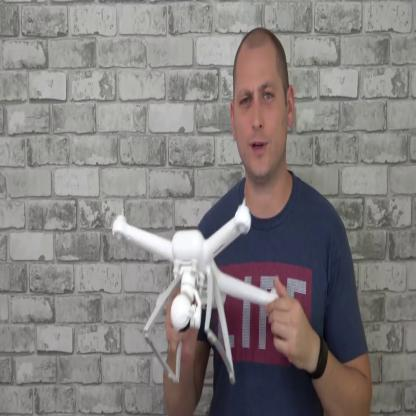drone: (106, 190, 288, 317)
